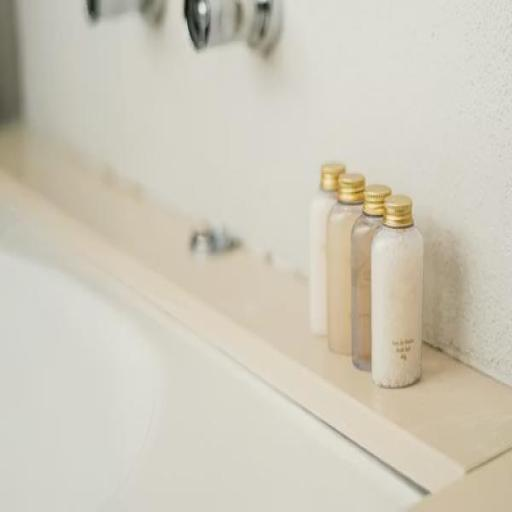bottle: (368, 190, 426, 397), (330, 172, 366, 374), (354, 180, 390, 374)
